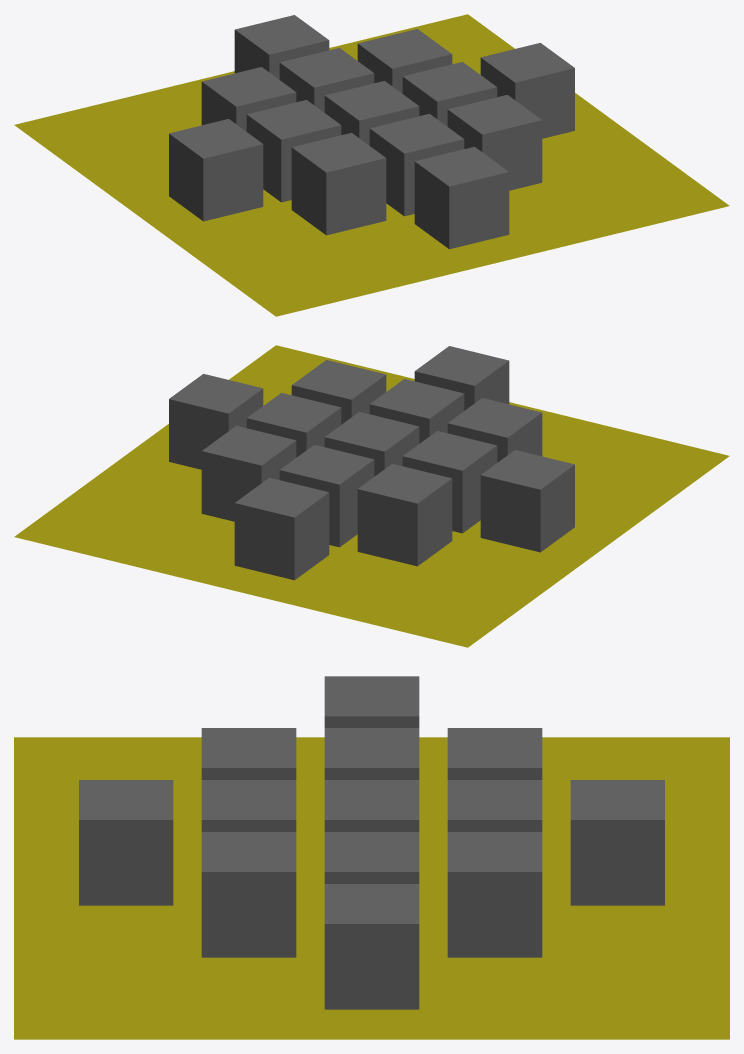
Rendered from bouncingBlocksJoinedMesh.gltf.
3 views of the same model, one above another, from view 1: azimuth 30°, elevation 25°; view 2: azimuth 150°, elevation 25°; view 3: azimuth 270°, elevation 25° (orthographic). The views are drawn at different scales.
Visible parts, largest first — view 1: Cube.014; view 2: Cube.014; view 3: Cube.014.
Part boxes in pixels (left/top/right/bottom): Cube.014: left=14, top=14, right=729, bottom=316; Cube.014: left=14, top=345, right=729, bottom=647; Cube.014: left=14, top=676, right=729, bottom=1039.
Bounding box in the file's own units: 15.14 × 2.06 × 15.14.
